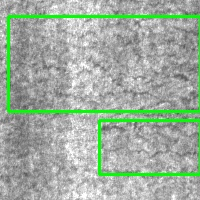crazing: (8, 16, 200, 111), (99, 120, 200, 174)
